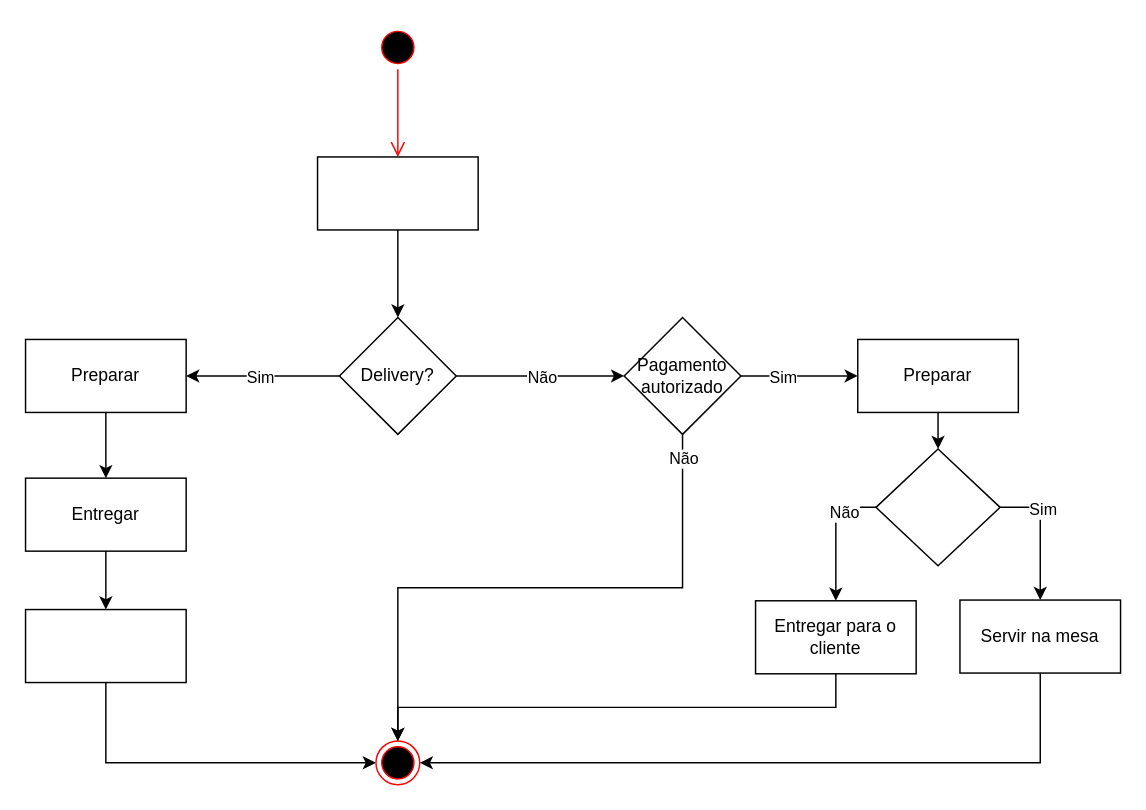
Some shapes in this 1146 by 810 pixel diagram are drawn without their labels. Each missing label, with the centre of its shape:
"Comer no local?" belongs at (x=937, y=506).
"Pagar" belongs at (x=105, y=645).
"Receber pedido" belongs at (x=397, y=192).
